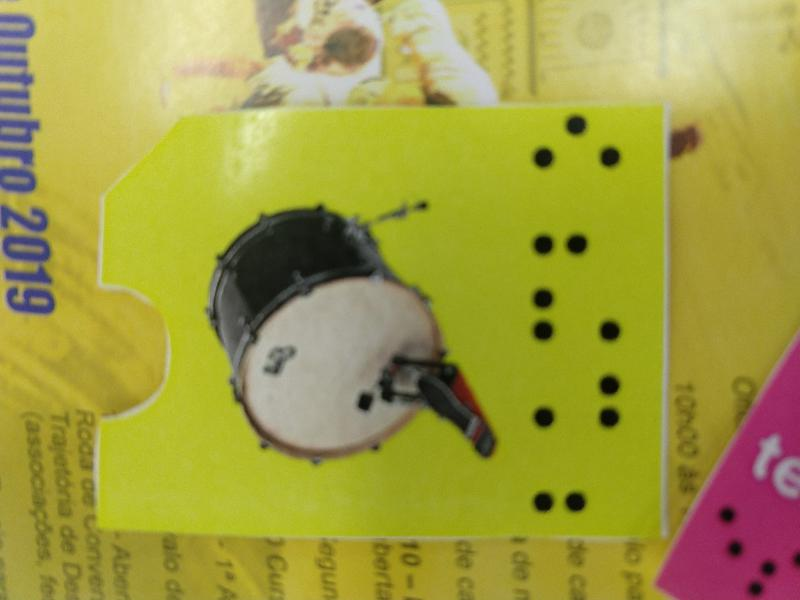bumbo: (80, 100, 670, 541)
